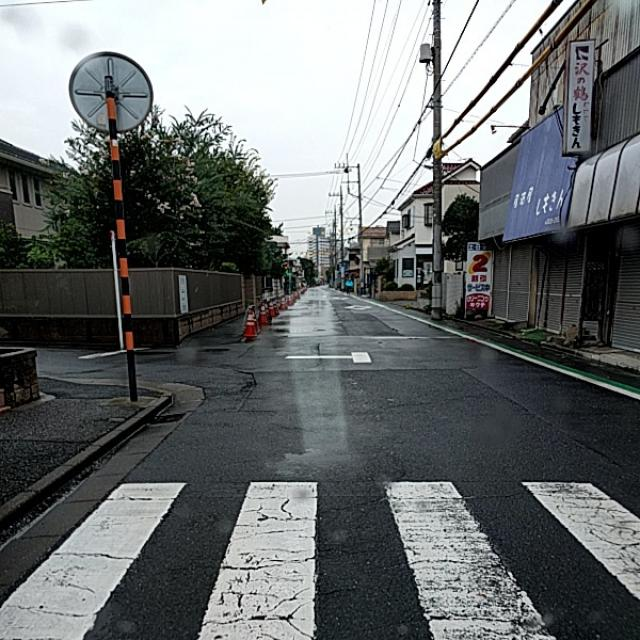pothole: (220, 525, 314, 629)
